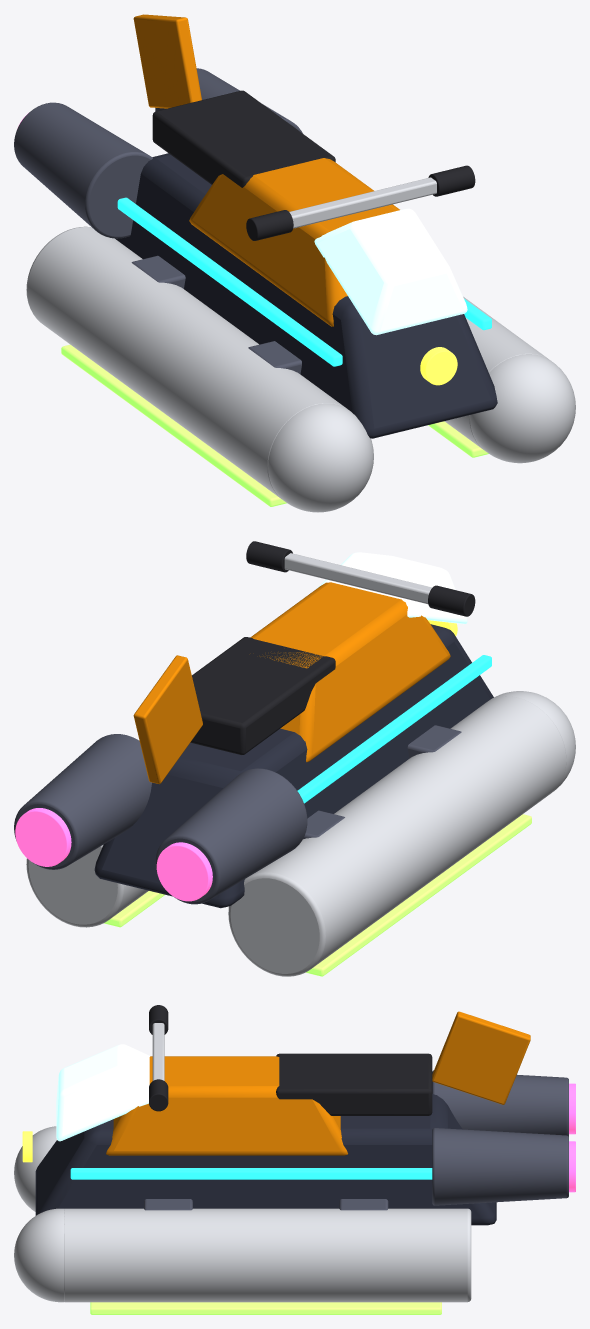
Rendered from spark.glb.
3 renders of one model, top to bottom at view 1: azimuth 30°, elevation 25°; view 2: azimuth 150°, elevation 25°; view 3: azimuth 270°, elevation 25°, orthographic. The views are drawn at different scales.
Parts seen in each view (by area): view 1: Cylinder.001, Cube, Cube.001, Cube.002, Cone, Cube.003, Sphere, Sphere.001, Cube.013, Cube.005, Cube.006, Cube.004 (+8 smaller); view 2: Cylinder.001, Cube, Cube.001, Cube.003, Cone, Cone.001, Cube.013, Cylinder.004, Cube.006, Cube.005, Cube.002, Cube.004 (+8 smaller); view 3: Cylinder.004, Cube, Cube.001, Cone.001, Cube.003, Cube.002, Cube.013, Cone, Cube.010, Cube.009, Sphere.001, Sphere (+5 smaller).
Boxes of the visible parts, x1,y1,x2,y2 form: Cylinder.001: [26, 226, 346, 498]; Cube: [115, 153, 497, 438]; Cube.001: [189, 158, 399, 326]; Cube.002: [314, 208, 467, 335]; Cone: [14, 102, 152, 238]; Cube.003: [152, 90, 335, 187]; Sphere: [268, 403, 373, 512]; Sphere.001: [470, 354, 575, 463]; Cube.013: [133, 14, 201, 108]; Cube.005: [117, 197, 342, 366]; Cube.006: [61, 344, 286, 506]; Cube.004: [289, 177, 436, 228]; Cylinder.001: [228, 696, 566, 976]; Cube: [94, 624, 493, 908]; Cube.001: [250, 582, 450, 762]; Cube.003: [190, 637, 335, 754]; Cone: [155, 768, 307, 904]; Cone.001: [14, 734, 151, 869]; Cube.013: [133, 655, 202, 783]; Cylinder.004: [26, 845, 148, 927]; Cube.006: [306, 814, 531, 976]; Cube.005: [297, 655, 491, 803]; Cube.002: [317, 552, 467, 624]; Cube.004: [284, 553, 431, 604]; Cylinder.004: [64, 1208, 471, 1302]; Cube: [35, 1094, 496, 1225]; Cube.001: [106, 1056, 347, 1155]; Cone.001: [432, 1128, 568, 1205]; Cube.003: [276, 1053, 432, 1115]; Cube.002: [56, 1044, 150, 1141]; Cube.013: [432, 1011, 530, 1104]; Cone: [432, 1070, 568, 1136]; Cube.010: [90, 1302, 441, 1314]; Cube.009: [70, 1168, 432, 1179]; Sphere.001: [14, 1208, 64, 1302]; Sphere: [14, 1126, 56, 1211].
Bounding box in the file's own units: 1.48 × 1.4 × 2.88.
